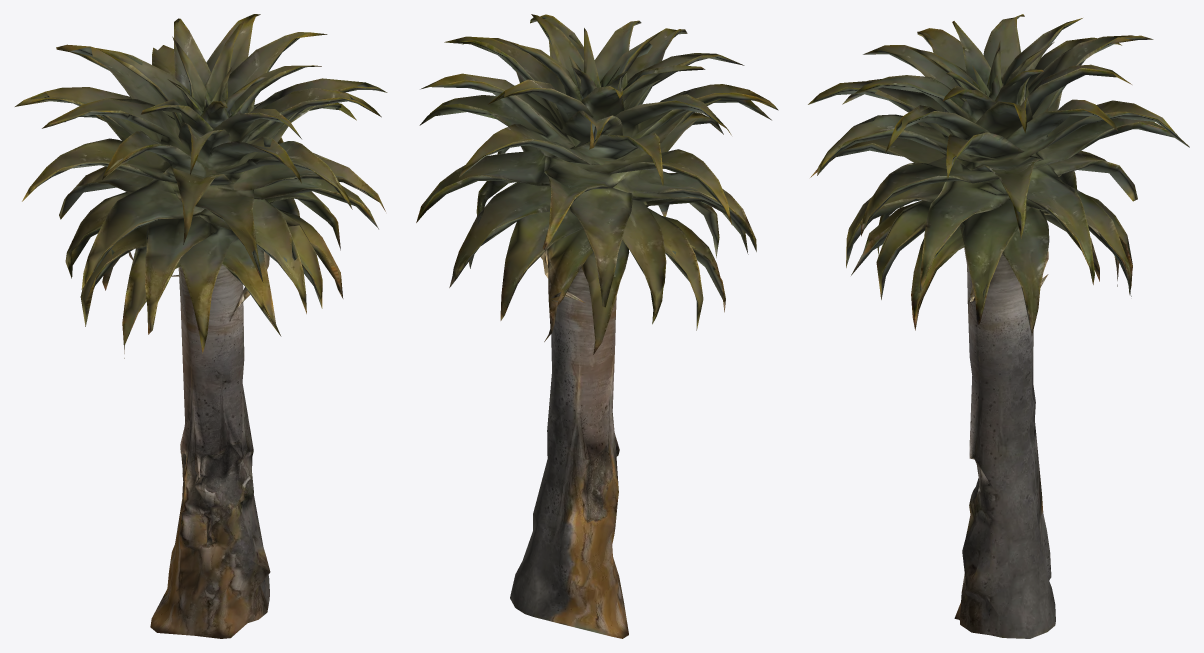
Rendered from quiver-tree.glb.
3 renders of one model, left to right at view 1: azimuth 30°, elevation 25°; view 2: azimuth 150°, elevation 25°; view 3: azimuth 270°, elevation 25°, orthographic.
Visible parts, largest first — view 1: quiver_tree_02; view 2: quiver_tree_02; view 3: quiver_tree_02.
Boxes of the visible parts, x1,y1,x2,y2 form: quiver_tree_02: [15, 14, 387, 638]; quiver_tree_02: [416, 14, 778, 638]; quiver_tree_02: [808, 14, 1189, 638].
Size of the model in its own units: 0.8629 by 1.46 by 0.8752.
Materials: 1 (1 with a texture image).
